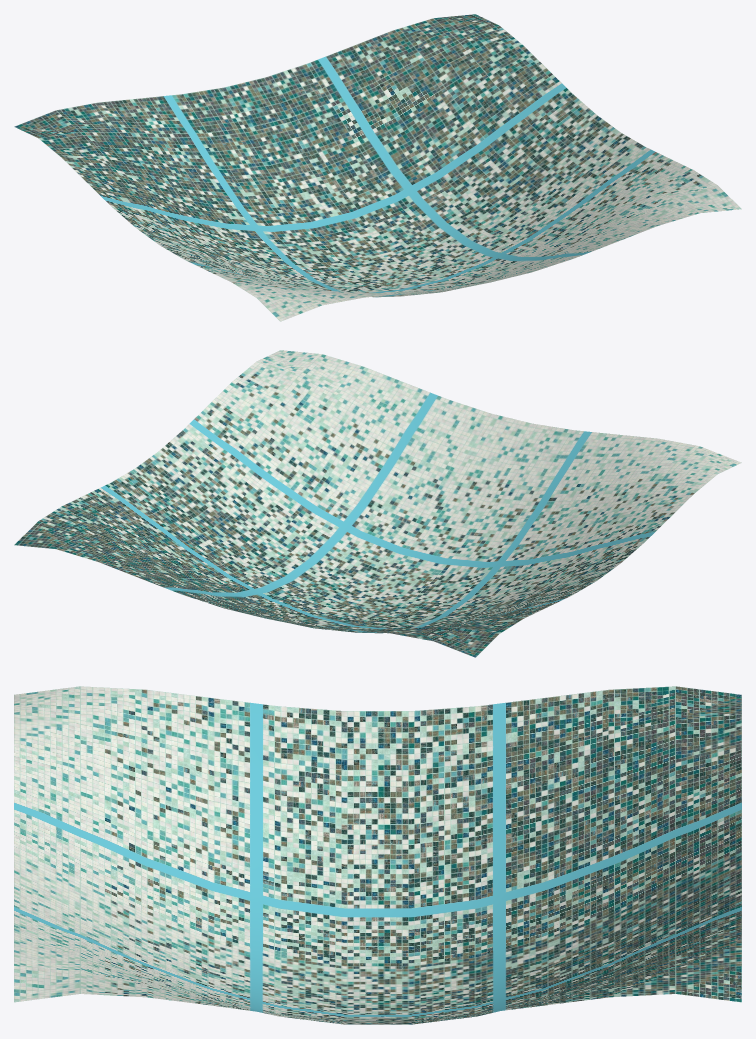
File: RoundedPlatform_1.fbx
3 views of the same model, one above another, from view 1: azimuth 30°, elevation 25°; view 2: azimuth 150°, elevation 25°; view 3: azimuth 270°, elevation 25° (orthographic). The views are drawn at different scales.
Parts seen in each view (by area): view 1: RoundedPlatform_1; view 2: RoundedPlatform_1; view 3: RoundedPlatform_1.
Part boxes in pixels (<box>): RoundedPlatform_1: <box>14,14,741,321</box>; RoundedPlatform_1: <box>14,350,741,657</box>; RoundedPlatform_1: <box>14,686,741,1024</box>.
Size of the model in its own units: 700 by 148 by 700.
